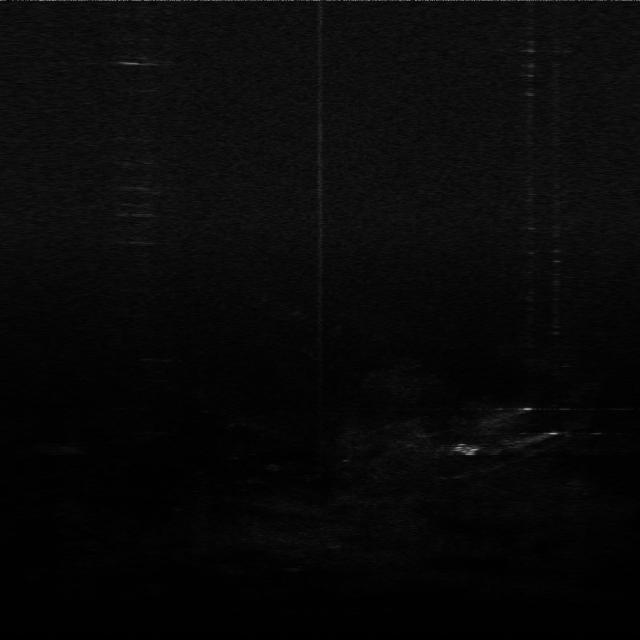rov: (452, 437, 482, 459)
